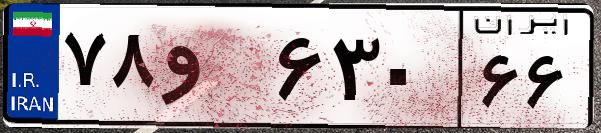0: (385, 28, 445, 110)
3: (330, 28, 385, 110)
6: (270, 28, 330, 110), (475, 38, 525, 113), (525, 38, 570, 115)
7: (57, 26, 110, 100)
8: (110, 28, 158, 98)
و: (158, 20, 270, 120)
